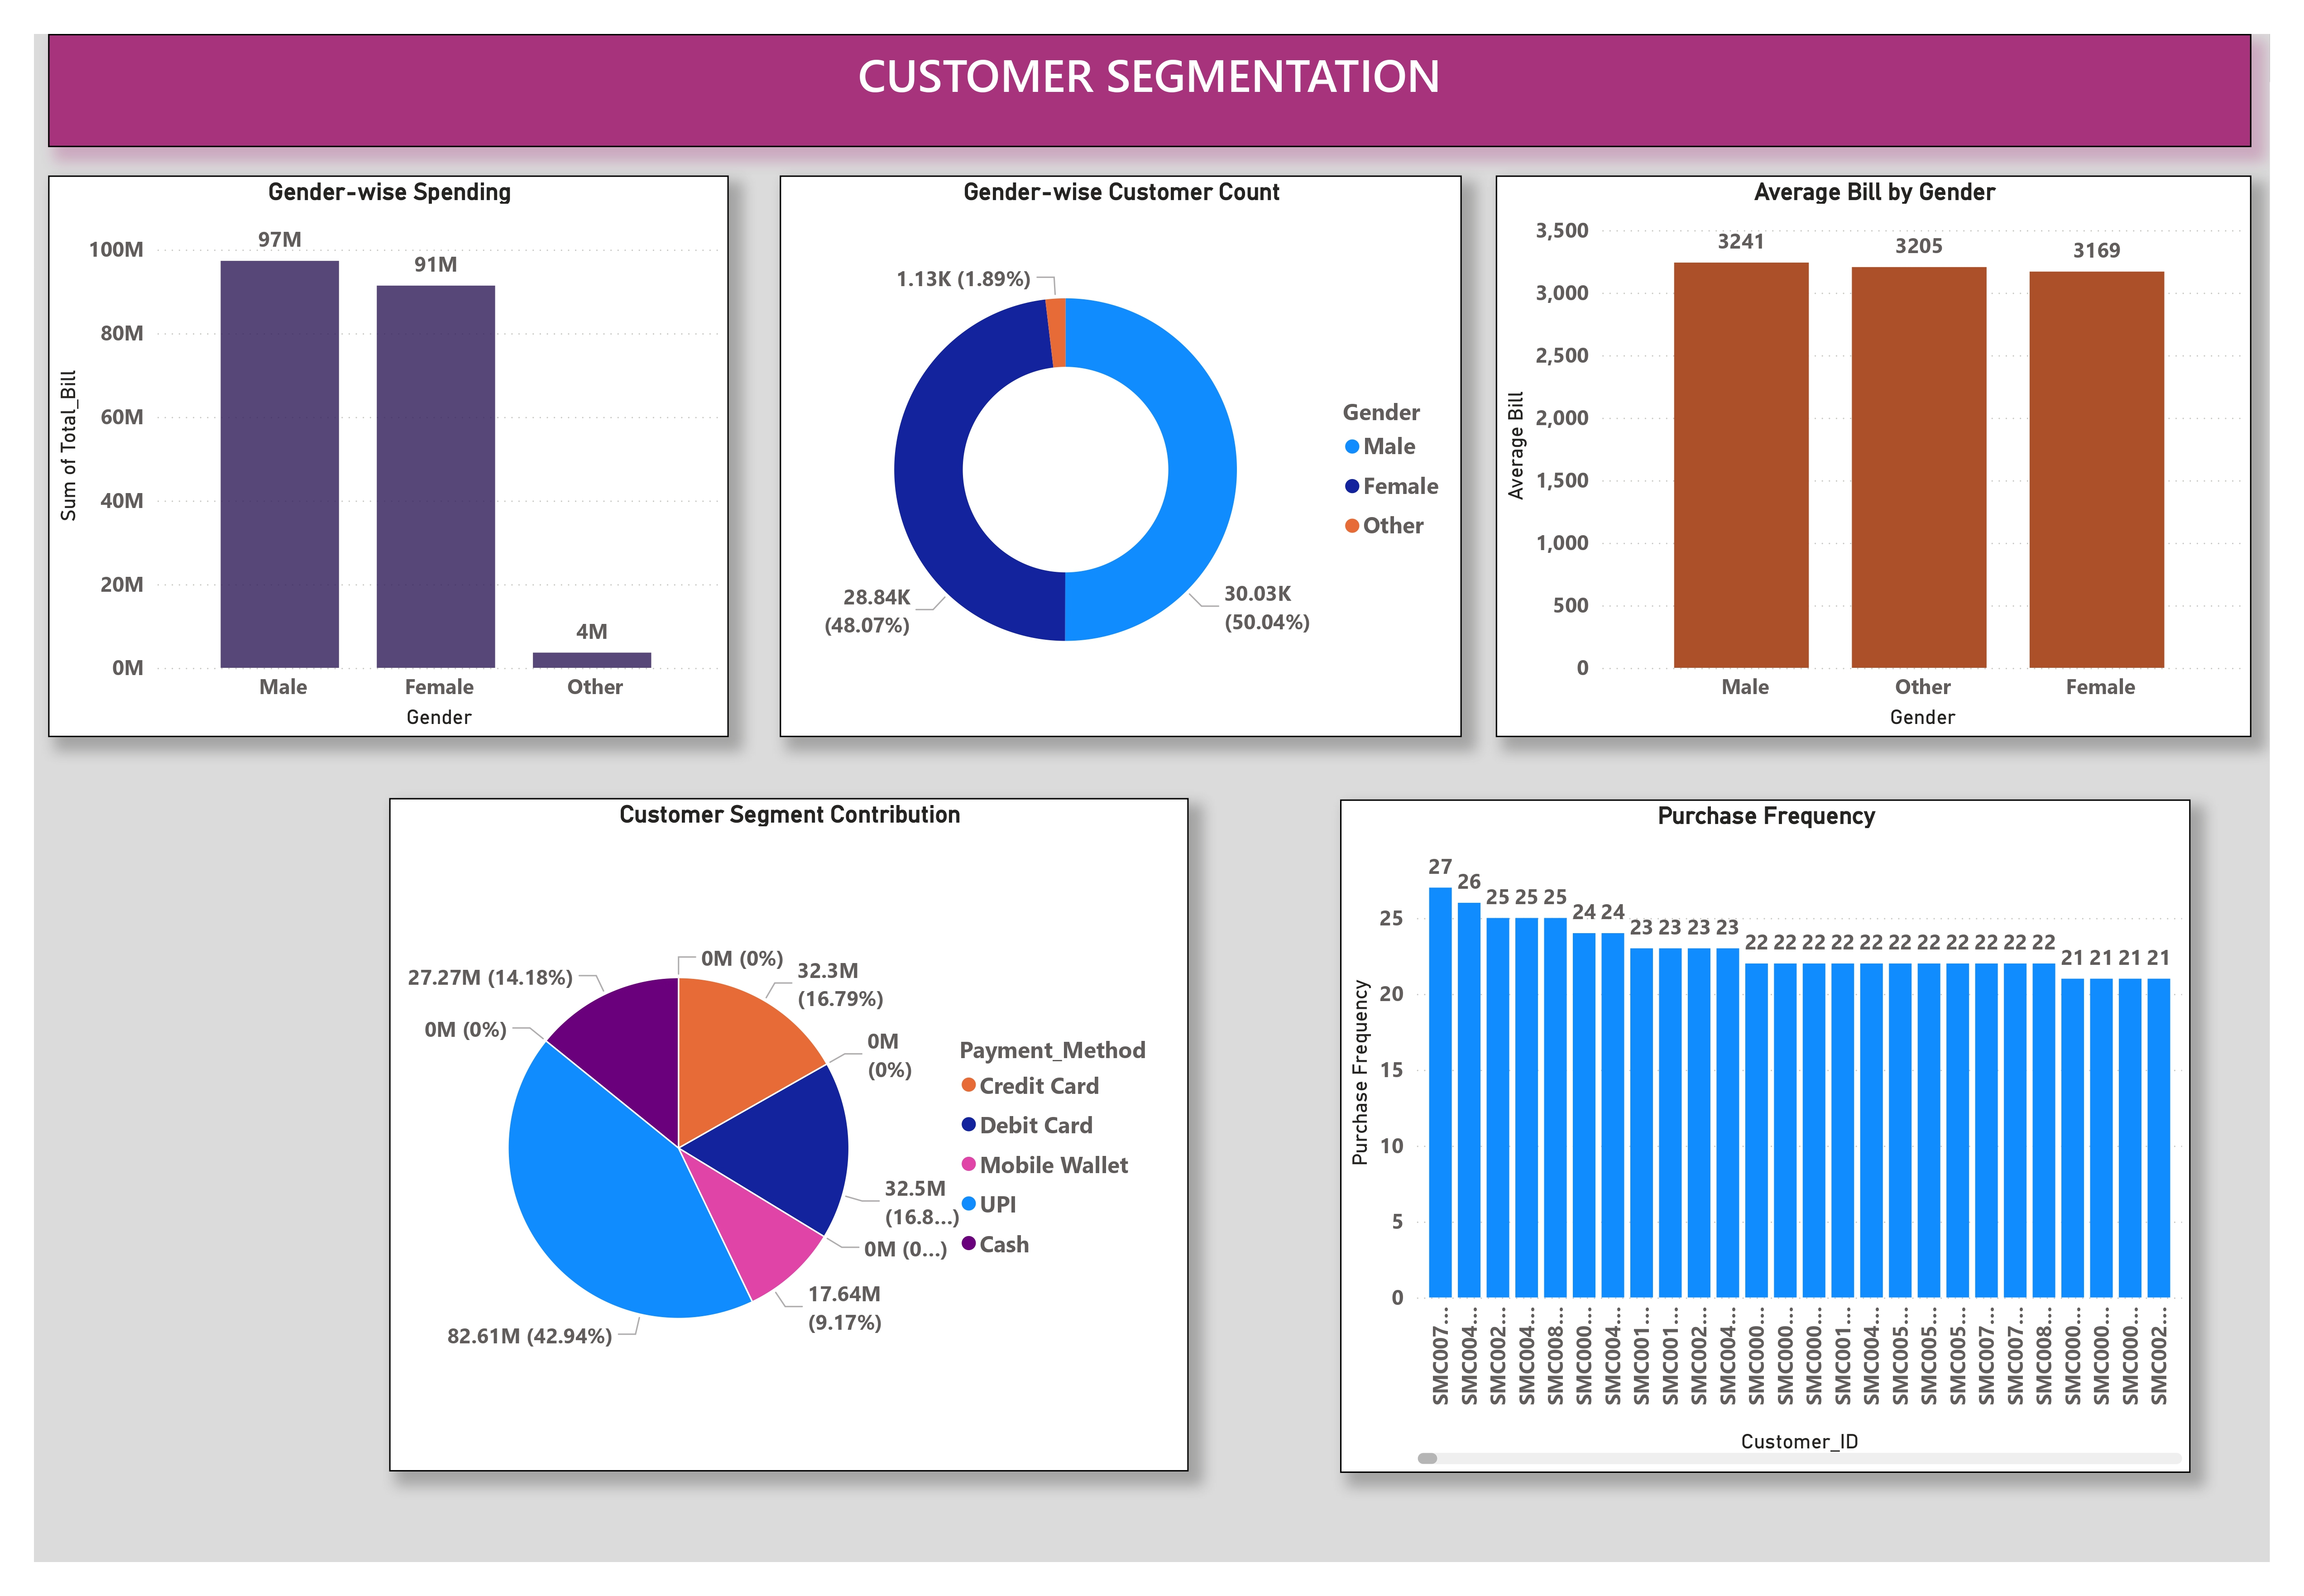

This screenshot's page, from the dashboard's own definition file:
{"tool":"powerbi","page":{"name":"CS","canvas":[1580,1080],"ordinal":2},"visuals":[{"type":"textbox","box":[10,0,1556.7,80],"z":0},{"type":"clusteredColumnChart","title":"Gender-wise Spending","fields":{"Category":["supermarketdata.Gender"],"Y":["Sum(supermarketdata.Total_Bill)"]},"box":[10,100,481.4,397.1],"z":1000},{"type":"donutChart","title":"Gender-wise Customer Count","fields":{"Category":["supermarketdata.Gender"],"Y":["CountNonNull(supermarketdata.Gender)"]},"box":[527.1,100,481.4,397.1],"z":2000},{"type":"pieChart","title":"Customer Segment Contribution","fields":{"Y":["supermarketdata.Average Bill","supermarketdata.Purchase Frequency","supermarketdata.Total Spending"],"Category":["supermarketdata.Payment_Method"]},"box":[251.4,540,564.3,475.7],"z":3000},{"type":"clusteredColumnChart","fields":{"Category":["supermarketdata.Gender"],"Y":["supermarketdata.Average Bill"]},"box":[1033.3,100,533.3,396.7],"z":4000},{"type":"columnChart","title":"Purchase Frequency","fields":{"Y":["supermarketdata.Purchase Frequency"],"Category":["supermarketdata.Customer_ID"]},"box":[922.9,541.4,601.4,475.7],"z":5000}]}

Visuals, with their boxes on the page's 1580x1080 design canvas (x1, y1, x2, y2). These are canvas units, not pixel positions in the 2304x1596 screenshot, which may show the page scaled, cropped or inside an application window:
textbox: 10,0,1567,80
"Gender-wise Spending" clusteredColumnChart: 10,100,491,497
"Gender-wise Customer Count" donutChart: 527,100,1008,497
"Customer Segment Contribution" pieChart: 251,540,816,1016
clusteredColumnChart - supermarketdata.Gender x supermarketdata.Average Bill: 1033,100,1567,497
"Purchase Frequency" columnChart: 923,541,1524,1017
